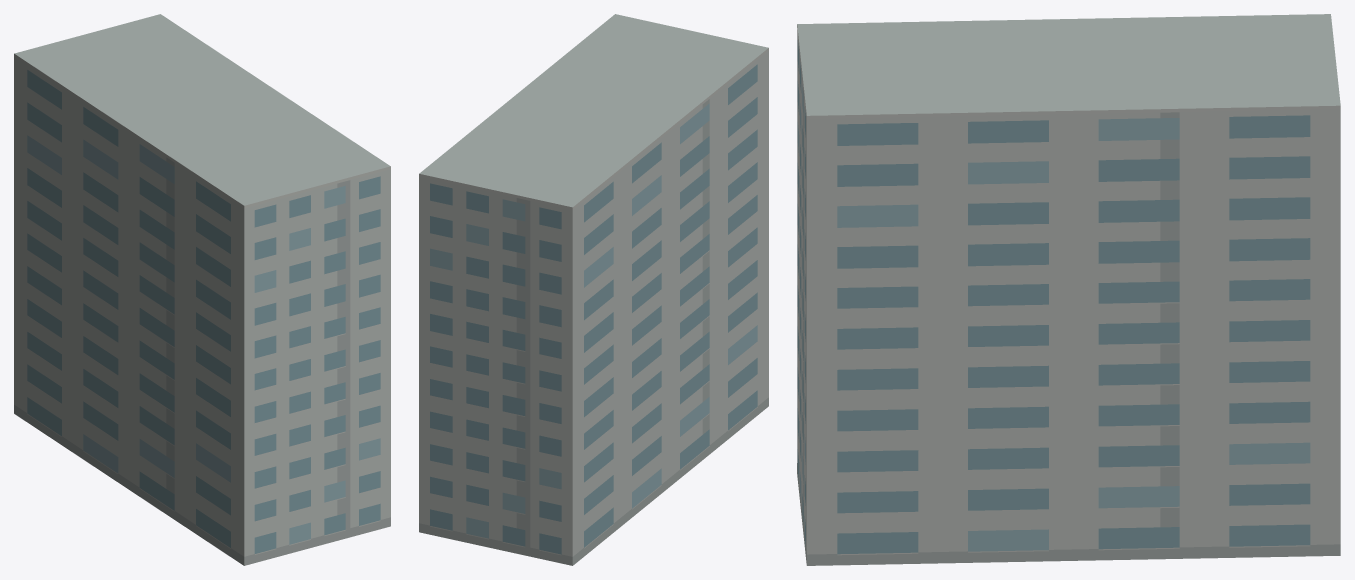
The model's file is residential-f8794b93-be0d-4149-a549-a87eeda347c3.glb.
3 renders of one model, left to right at view 1: azimuth 30°, elevation 25°; view 2: azimuth 150°, elevation 25°; view 3: azimuth 270°, elevation 25°, orthographic. The views are drawn at different scales.
Visible parts, largest first — view 1: residential-f8794b93-be0d-4149-a549-a87eeda347c3.tmp; view 2: residential-f8794b93-be0d-4149-a549-a87eeda347c3.tmp; view 3: residential-f8794b93-be0d-4149-a549-a87eeda347c3.tmp.
Part boxes in pixels (x1,y1,x2,y2): residential-f8794b93-be0d-4149-a549-a87eeda347c3.tmp: [14, 14, 390, 565]; residential-f8794b93-be0d-4149-a549-a87eeda347c3.tmp: [419, 14, 768, 565]; residential-f8794b93-be0d-4149-a549-a87eeda347c3.tmp: [797, 14, 1340, 565].
Size of the model in its own units: 15.06 by 31 by 33.94.
